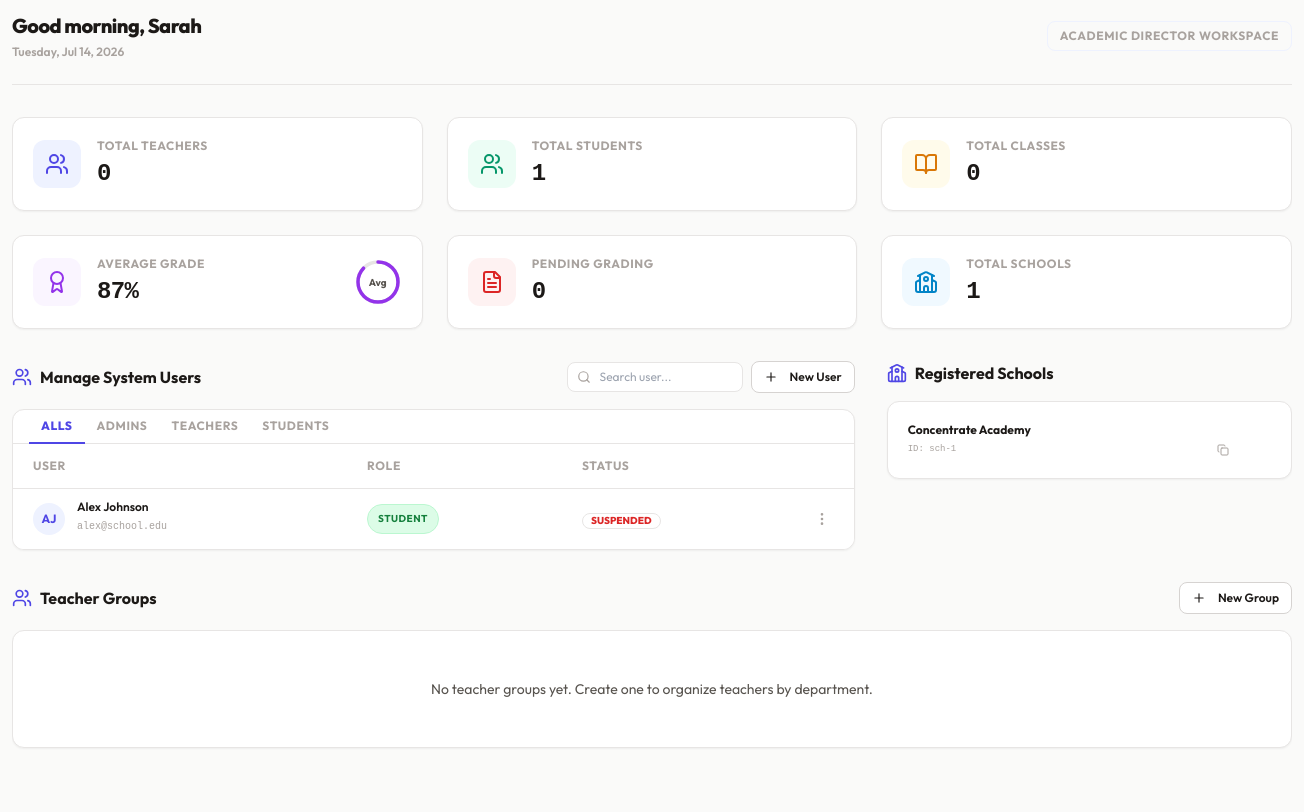
Test: AdminDashboard › unsuspends a suspended user and shows the lifted status message
Expected: the text "Alex Johnson" is shown, [77, 499, 148, 514]
Click the 7th button at (822, 518), box [810, 506, 834, 530]
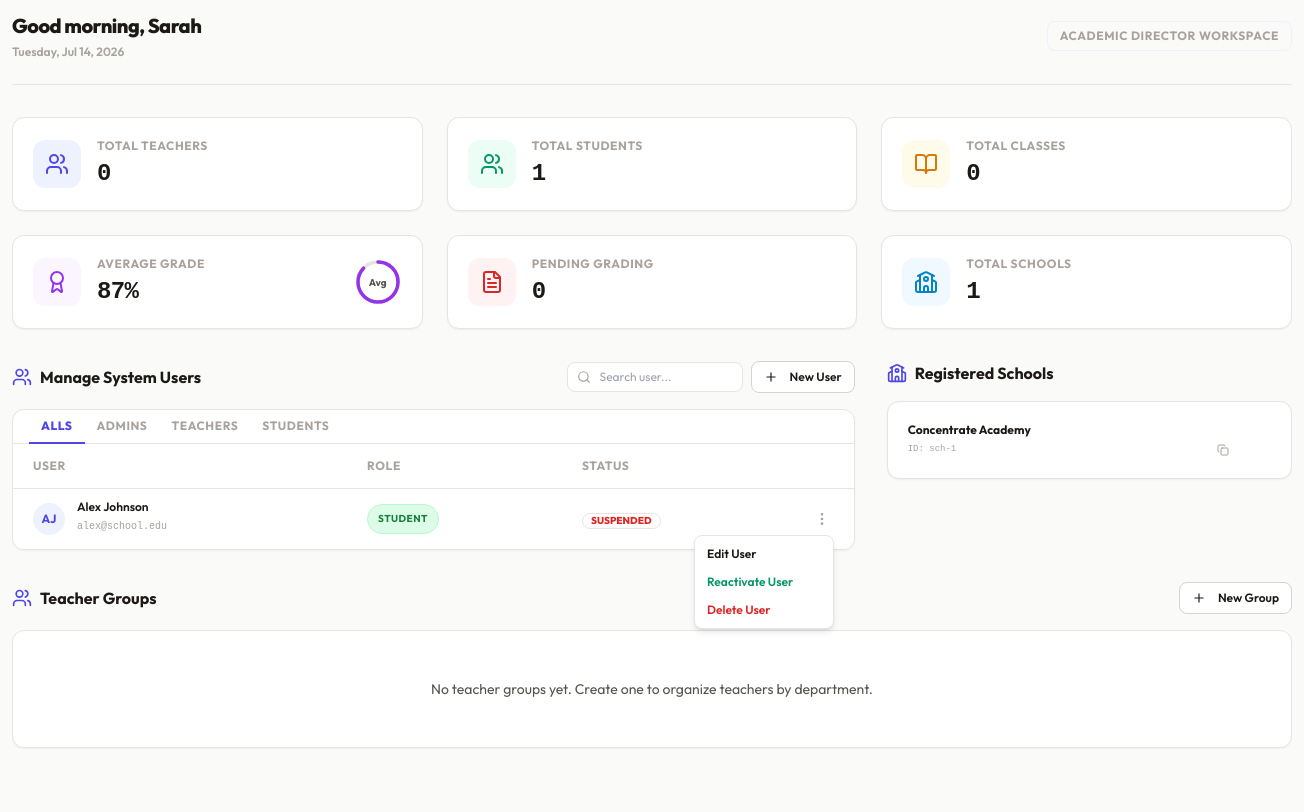
Click the menu item "Reactivate User" at (750, 582), box [707, 574, 793, 589]
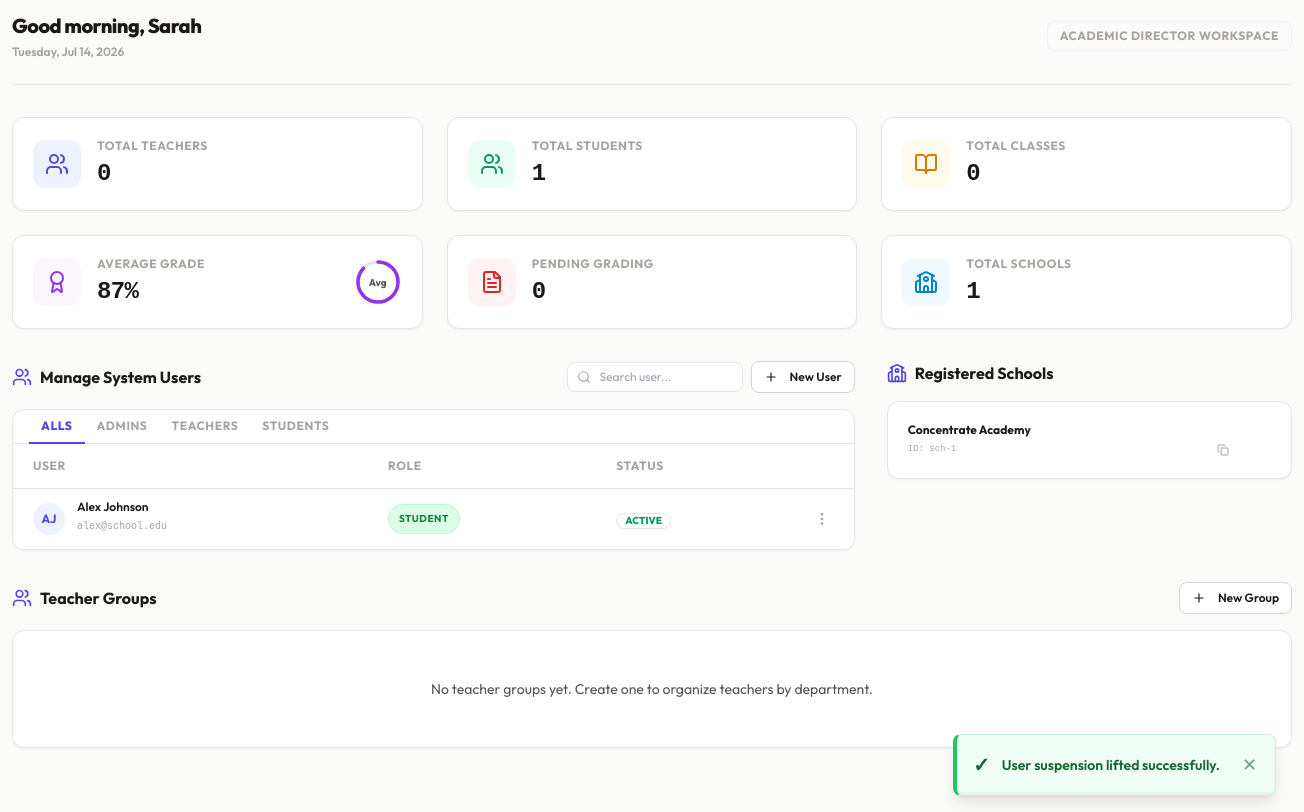
Expected: the text "User suspension lifted successfully." is shown, [1002, 755, 1228, 775]
